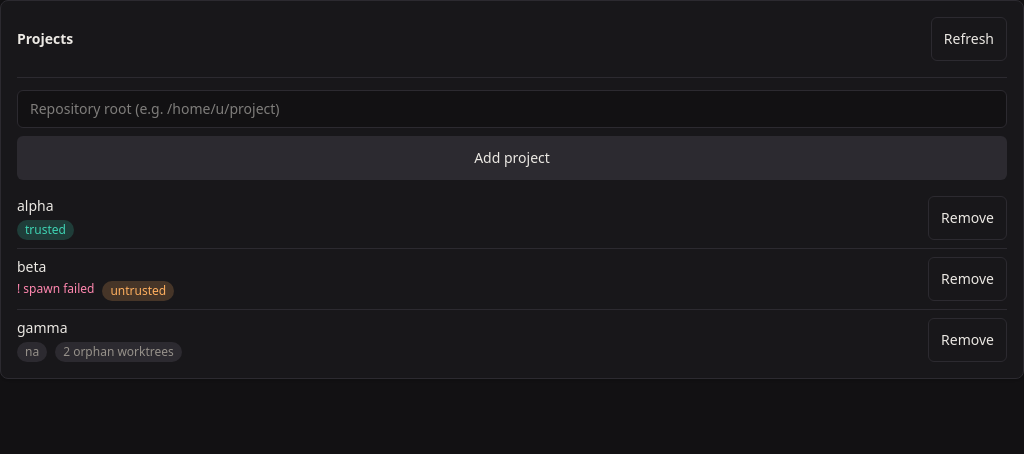
Scenario: ProjectsPanel › shows the error banner when addProject rejects
This screenshot has width=1024, height=454.
Expected: the link "alpha" is shown, [17,196,54,215]
Type "/nope" into the field with placeholder "Repository root (e.g. /home/u/project)" at (512, 109), box [17,90,1007,128]
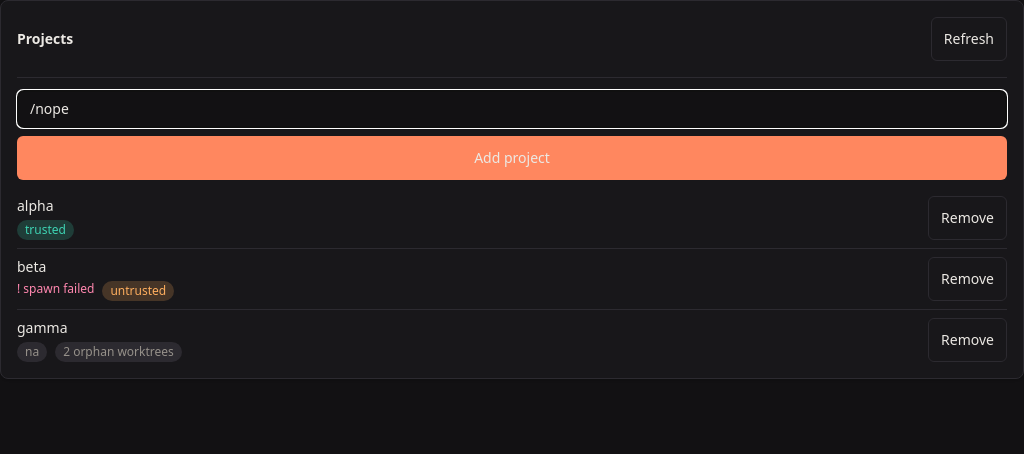
Click the button "Add project" at (512, 158), box [17,136,1007,180]
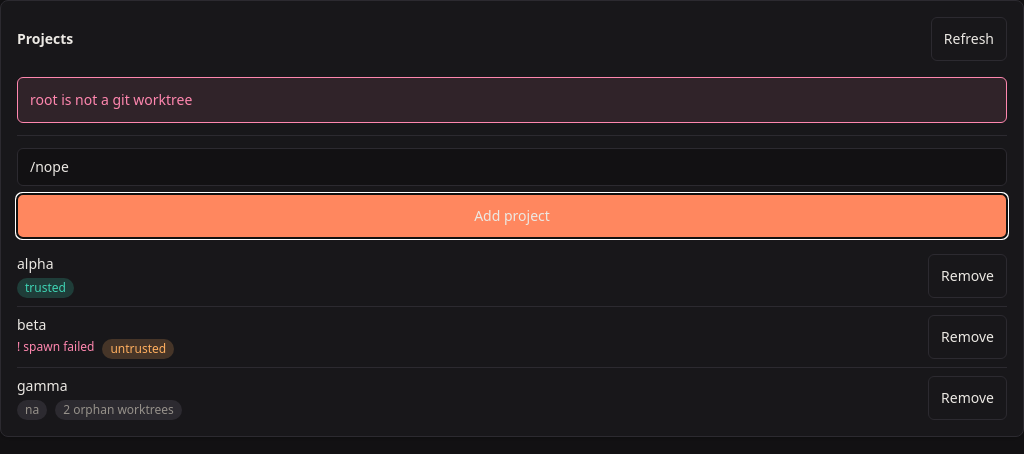
Expected: the text "root is not a git worktree" is shown, [17,77,1007,123]
